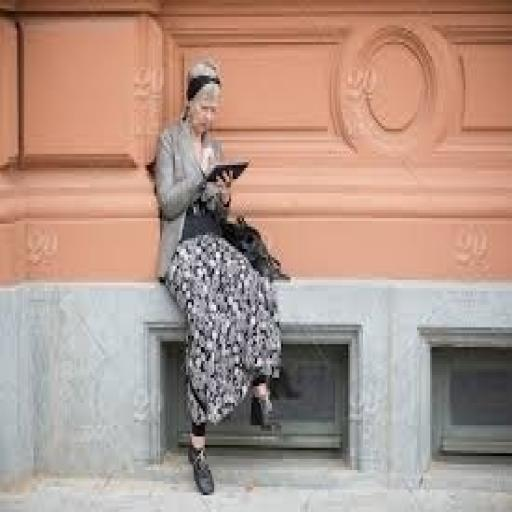using_laptop: (201, 156, 250, 184)
